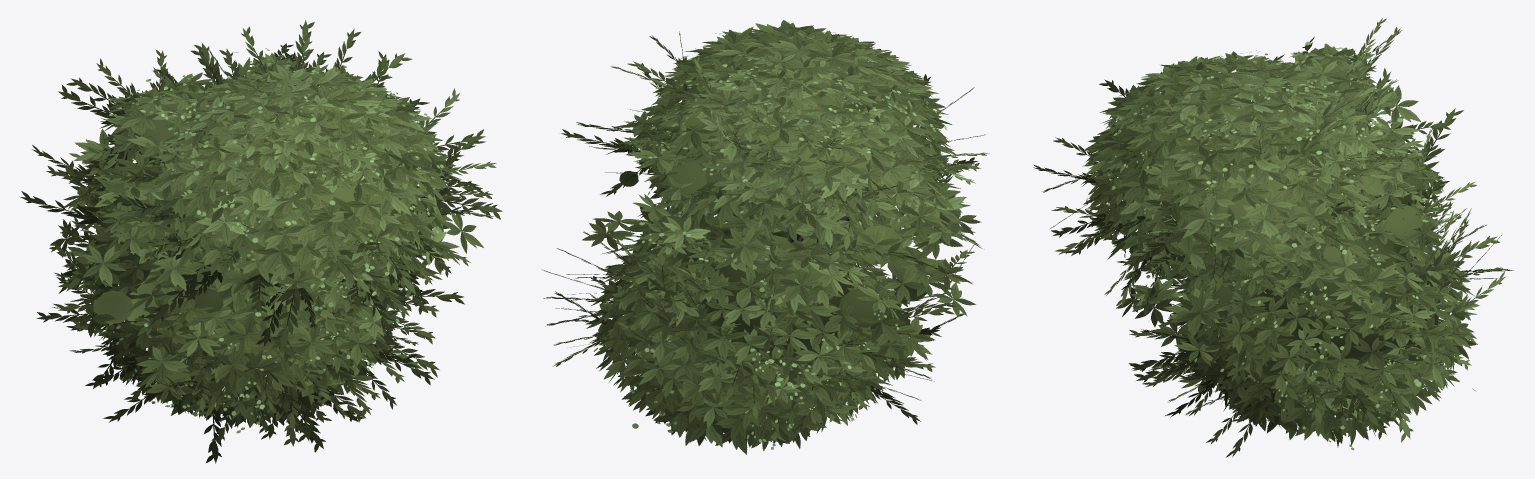
File: ZonTree202.glb
3 renders of one model, left to right at view 1: azimuth 30°, elevation 25°; view 2: azimuth 150°, elevation 25°; view 3: azimuth 270°, elevation 25°, orthographic.
Visible parts, largest first — view 1: ZonTree202_leaves; view 2: ZonTree202_leaves; view 3: ZonTree202_leaves.
Part boxes in pixels (x1=…): ZonTree202_leaves: x1=19, y1=20, x2=502, y2=463; ZonTree202_leaves: x1=542, y1=20, x2=989, y2=454; ZonTree202_leaves: x1=1033, y1=18, x2=1513, y2=457.
Size of the model in its own units: 10.88 by 8.92 by 10.73.
Materials: 3 (2 with a texture image).
